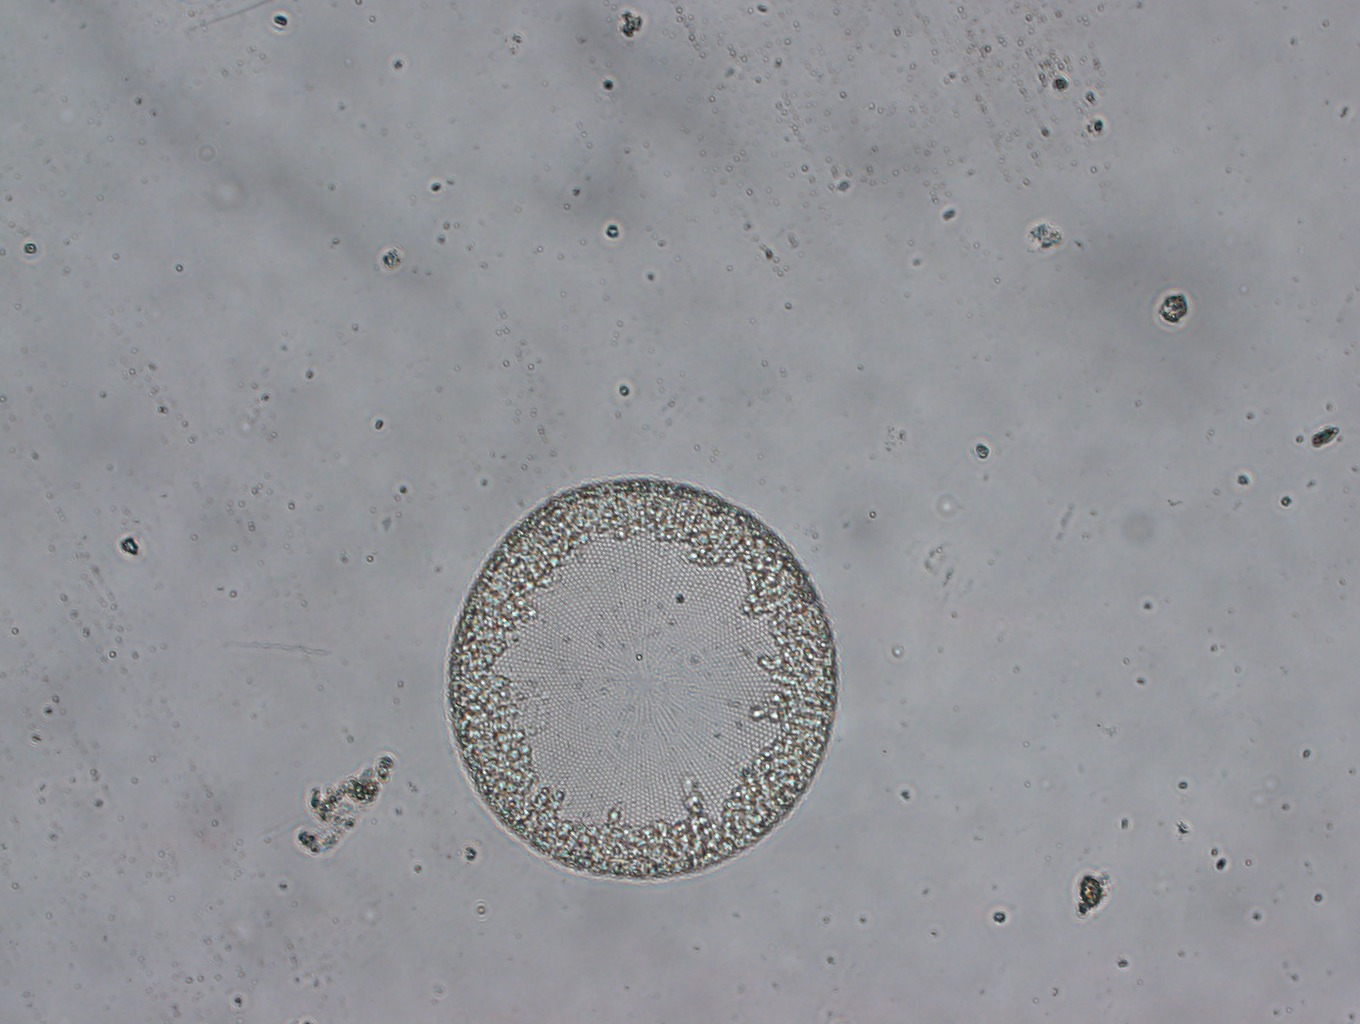coscinodiscus: (441, 478, 839, 882)
